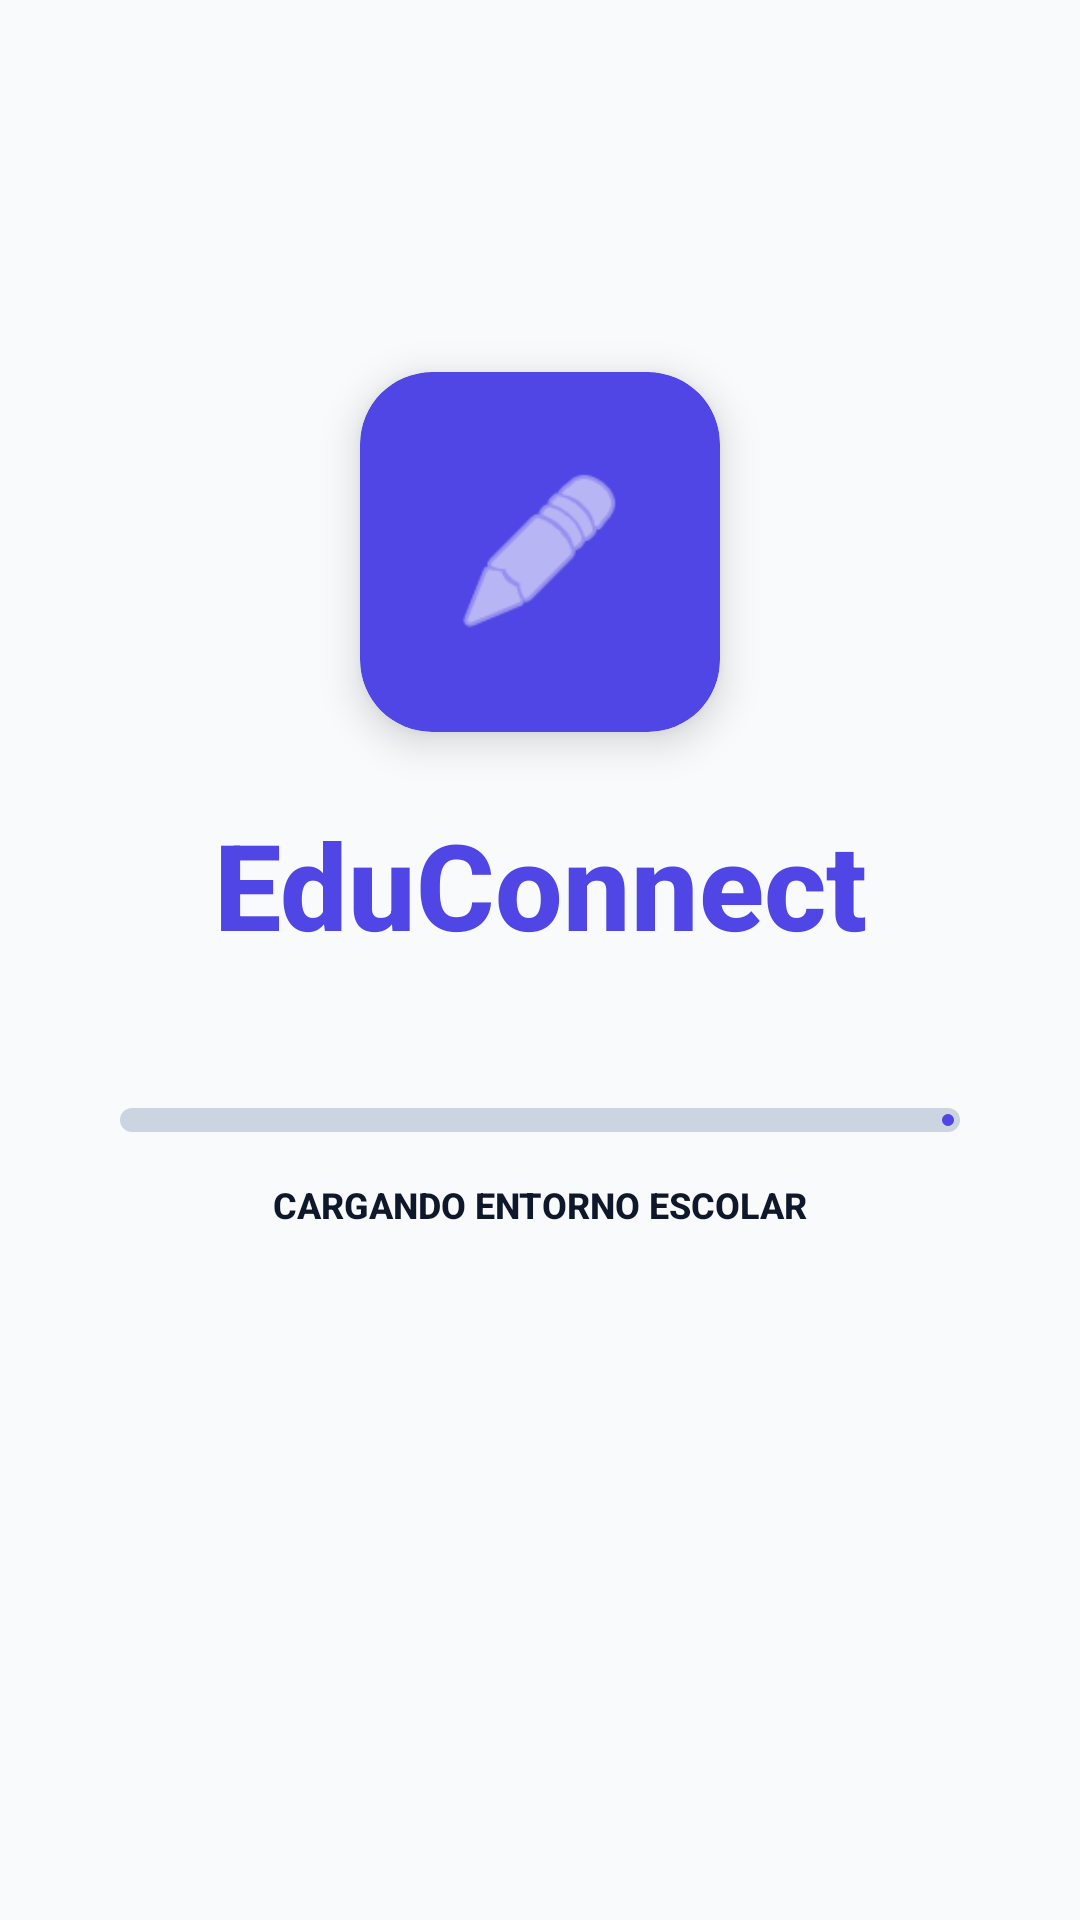

Icons on this 1080 x 1920 Android screen, each with the point to tap as [x,y]:
edit: [539,551]
